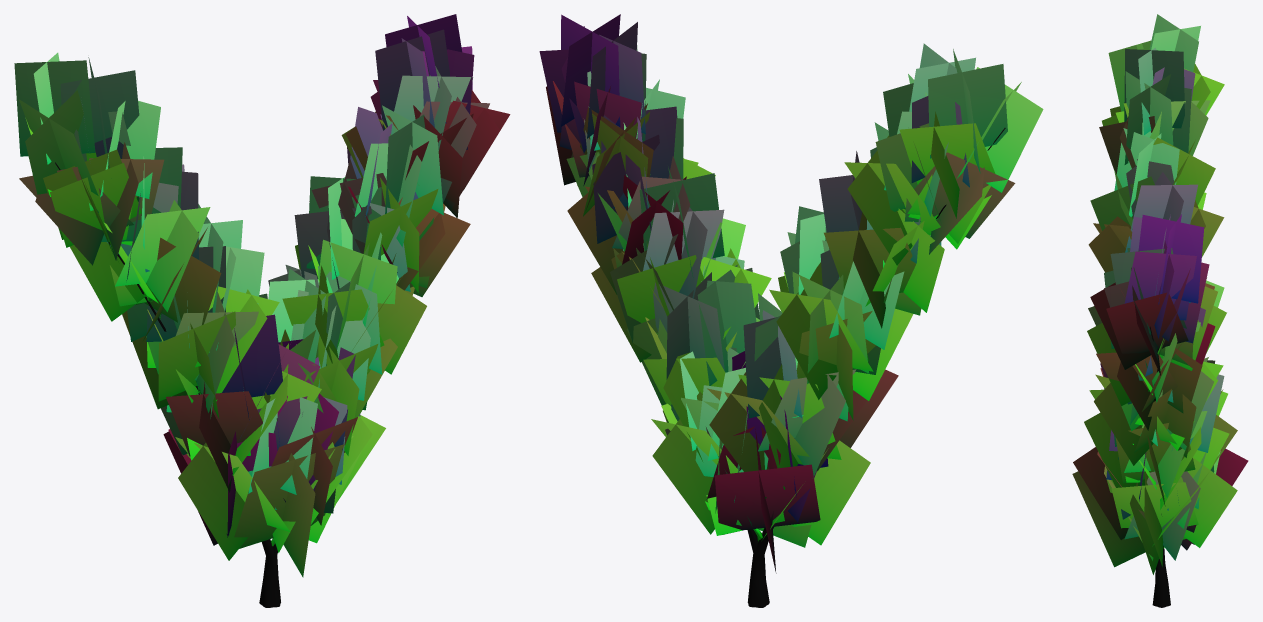
Rendered from Tree_6_8.fbx.
3 renders of one model, left to right at view 1: azimuth 30°, elevation 25°; view 2: azimuth 150°, elevation 25°; view 3: azimuth 270°, elevation 25°, orthographic. The views are drawn at different scales.
Visible parts, largest first — view 1: _8; view 2: _8; view 3: _8.
Boxes of the visible parts, x1=… form: _8: x1=14, y1=14, x2=510, y2=607; _8: x1=539, y1=14, x2=1043, y2=607; _8: x1=1072, y1=14, x2=1248, y2=607.
Bounding box in the file's own units: 1251 × 1448 × 468.
